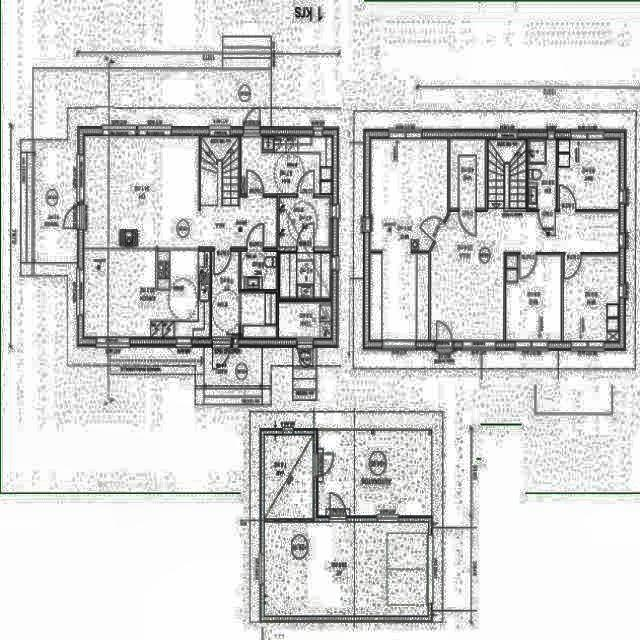room: (264, 523, 428, 616), (241, 136, 332, 194), (563, 255, 619, 342), (506, 256, 561, 341), (557, 140, 619, 210), (264, 435, 312, 519), (280, 197, 330, 247), (450, 138, 485, 209), (280, 253, 330, 299), (212, 252, 239, 337), (528, 140, 556, 209), (279, 302, 331, 338), (241, 252, 277, 289)
